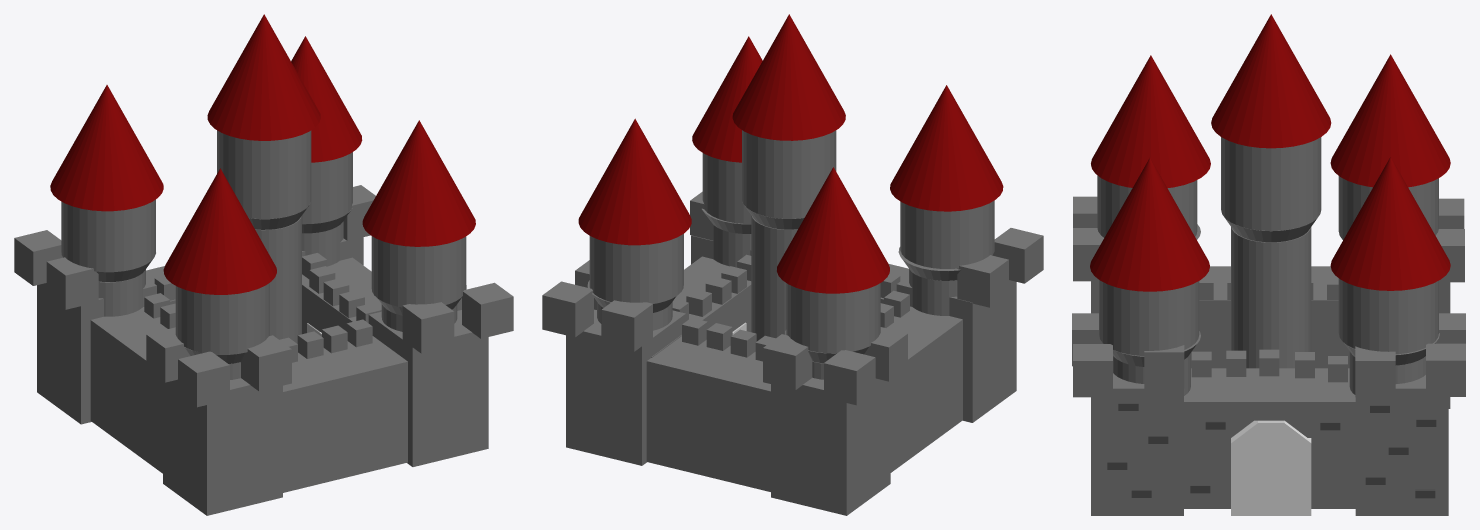
Rendered from HeroHQ.fbx.
The picture shows the model from 3 angles, left to right: view 1: azimuth 30°, elevation 25°; view 2: azimuth 150°, elevation 25°; view 3: azimuth 270°, elevation 25°; orthographic projection. The views are drawn at different scales.
Visible parts, largest first — view 1: Cube.008, Cube.002, Cube.003, Cube.006, Cone.008, Cone.006, Cone.001, Cone.007, Cylinder.001, Cube.001, Cylinder.006, Cylinder.009 (+18 smaller); view 2: Cube.007, Cube.001, Cube.004, Cube.006, Cone.009, Cone.001, Cone.007, Cone.008, Cylinder.001, Cube.002, Cylinder.008, Cylinder.009 (+21 smaller); view 3: Cube.005, Cube.003, Cube.004, Cylinder, Cone.006, Cone.009, Cone.001, Cone.007, Cone.008, Cylinder.001, Cube, Cylinder.008 (+23 smaller).
Boxes of the visible parts, box(x1,y1,x2,y2) form: Cube.008: box(283, 336, 407, 492); Cube.002: box(163, 378, 282, 515); Cube.003: box(368, 310, 488, 466); Cube.006: box(90, 307, 167, 473); Cone.008: box(50, 85, 163, 211); Cone.006: box(362, 120, 475, 246); Cone.001: box(207, 14, 320, 140); Cone.007: box(163, 168, 276, 294); Cylinder.001: box(217, 130, 311, 218); Cube.001: box(37, 278, 156, 424); Cylinder.006: box(371, 236, 466, 307); Cylinder.009: box(61, 199, 155, 272); Cube.007: box(646, 336, 770, 491); Cube.001: box(771, 377, 890, 515); Cube.004: box(566, 309, 685, 465); Cube.006: box(886, 306, 962, 472); Cone.009: box(578, 118, 691, 245); Cone.001: box(732, 14, 845, 140); Cone.007: box(890, 85, 1003, 211); Cone.008: box(777, 167, 889, 293); Cylinder.001: box(742, 130, 836, 218); Cube.002: box(896, 275, 1016, 422); Cylinder.008: box(589, 234, 683, 303); Cylinder.009: box(786, 283, 880, 353); Cube.005: box(1184, 368, 1355, 508); Cube.003: box(1091, 373, 1183, 515); Cube.004: box(1355, 375, 1448, 515); Cylinder: box(1231, 227, 1311, 368); Cone.006: box(1090, 158, 1209, 291); Cone.009: box(1330, 157, 1450, 290); Cone.001: box(1211, 14, 1331, 148); Cone.007: box(1091, 55, 1210, 188); Cone.008: box(1330, 54, 1450, 187); Cylinder.001: box(1221, 137, 1321, 230); Cube: box(1231, 420, 1311, 515); Cylinder.008: box(1338, 278, 1438, 354).
Bounding box in the file's own units: 965 × 1185 × 983.
